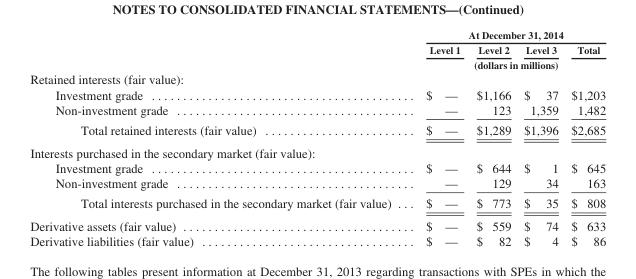table: (29, 28, 605, 247)
table column: (29, 28, 407, 247), (407, 28, 467, 247), (467, 28, 516, 247), (516, 28, 564, 247), (564, 28, 605, 247)
table column header: (29, 28, 605, 71)
table projected row header: (29, 141, 605, 159), (29, 71, 605, 86)
table row: (29, 119, 605, 141), (29, 192, 605, 214), (29, 214, 605, 233), (29, 101, 605, 119), (29, 141, 605, 159), (29, 175, 605, 192), (29, 159, 605, 175), (29, 42, 605, 57), (29, 71, 605, 86), (29, 86, 605, 101), (29, 28, 605, 42), (29, 57, 605, 71), (29, 233, 605, 247)
table spanning cell: (407, 28, 605, 42), (407, 57, 605, 71)
